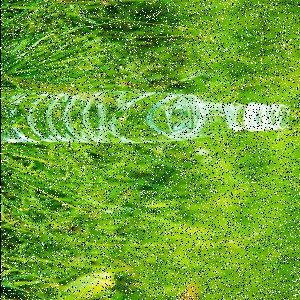Plastic-bottle: (3, 92, 291, 146)
